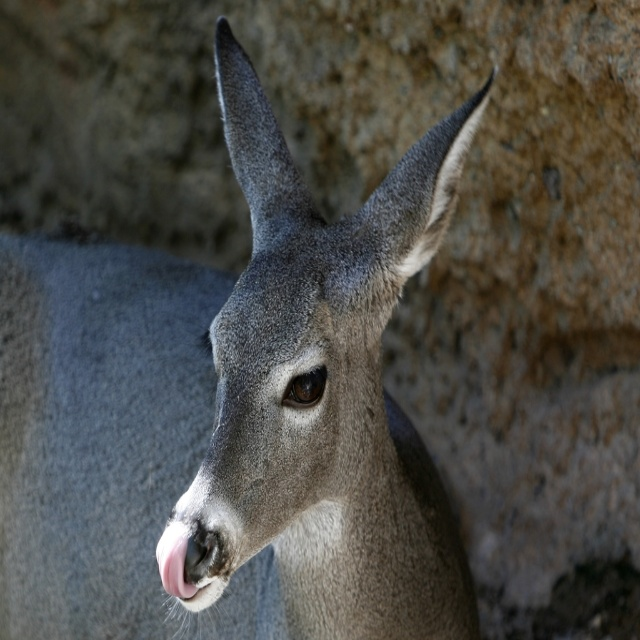Deer: (0, 15, 480, 639)
